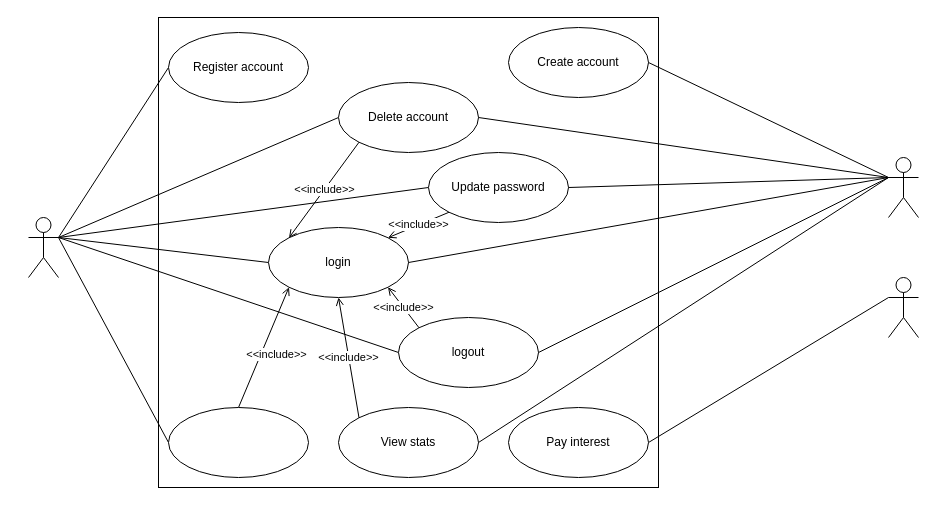
The diagram is 940 pixels wide and 505 high, and some of its shapes have lost their labels. Each missing label, with the centre of its shape:
"Admin" goes at [903,187].
"Check balance" goes at [238,442].
"Customer" goes at [43,247].
"System" goes at [903,307].
